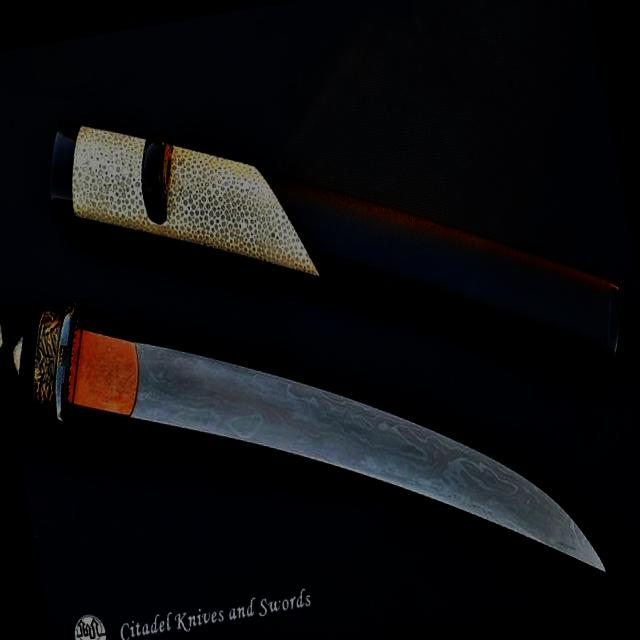short sword: (14, 172, 640, 640)
